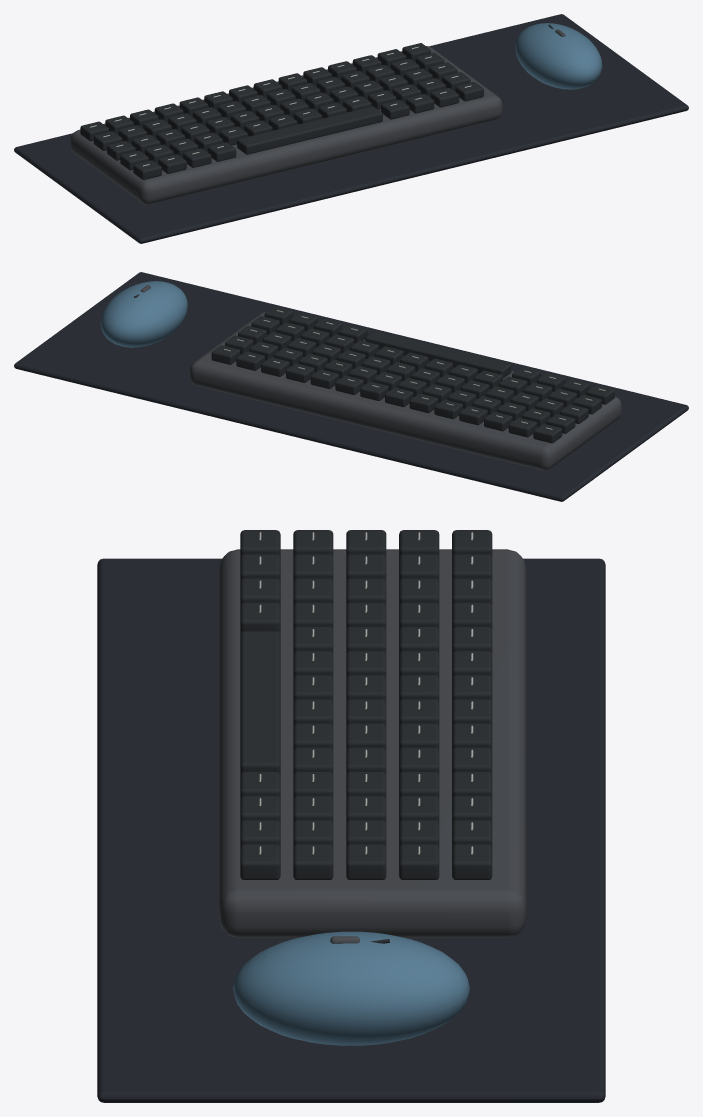
Rendered from estacoes_teclado_mouse.glb.
3 renders of one model, top to bottom at view 1: azimuth 30°, elevation 25°; view 2: azimuth 150°, elevation 25°; view 3: azimuth 270°, elevation 25°, orthographic. The views are drawn at different scales.
Parts seen in each view (by area): view 1: teclado_mouse; view 2: teclado_mouse; view 3: teclado_mouse.
Boxes of the visible parts, <box> form: teclado_mouse: <box>14,14,688,243</box>; teclado_mouse: <box>14,272,688,501</box>; teclado_mouse: <box>97,530,605,1102</box>.
Size of the model in its own units: 0.6 by 0.053 by 0.24.
